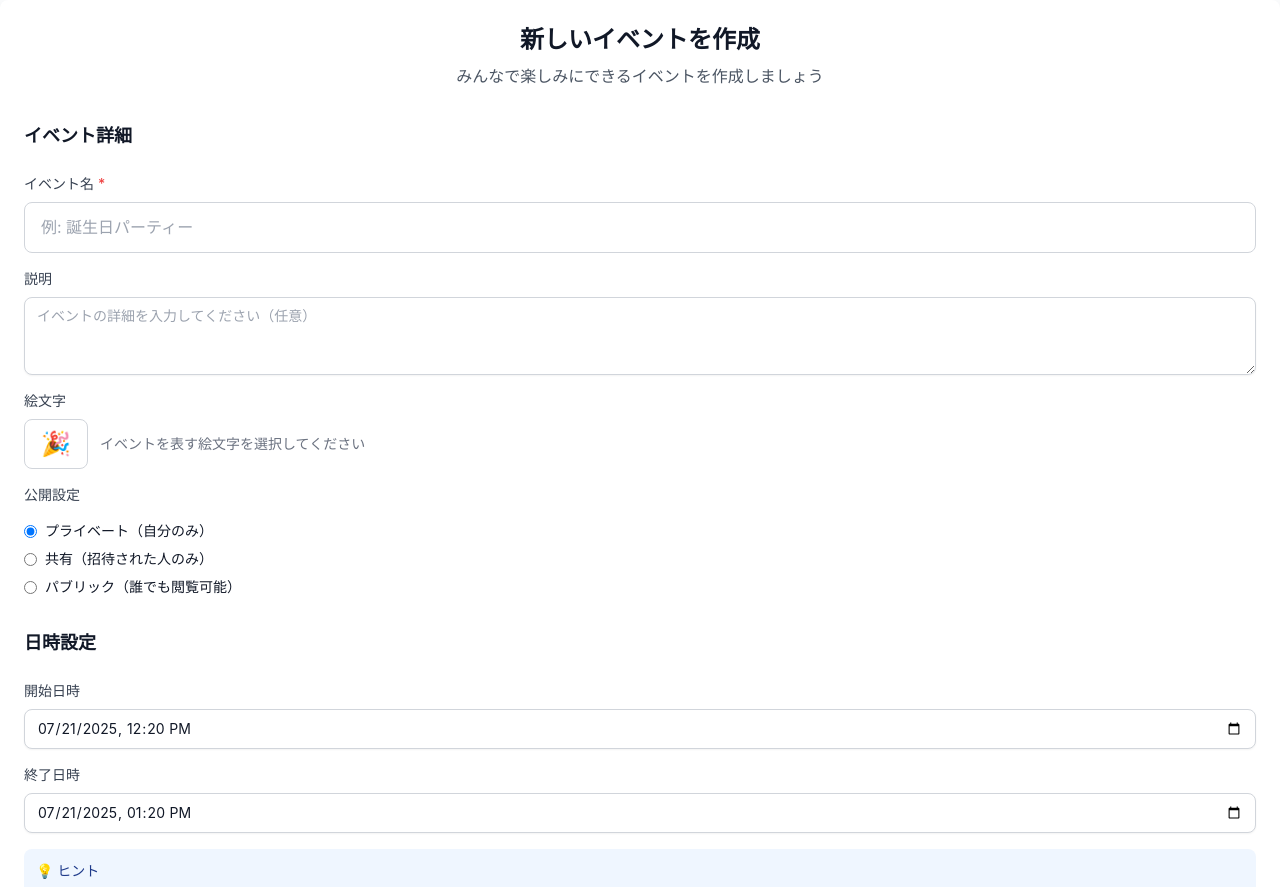
Test: EventCreationForm › shows validation errors for empty required fields
Clear the startTime and endTime fields to trigger required validation
Clear the field labelled "開始日時" at (640, 729), box [24, 709, 1256, 749]
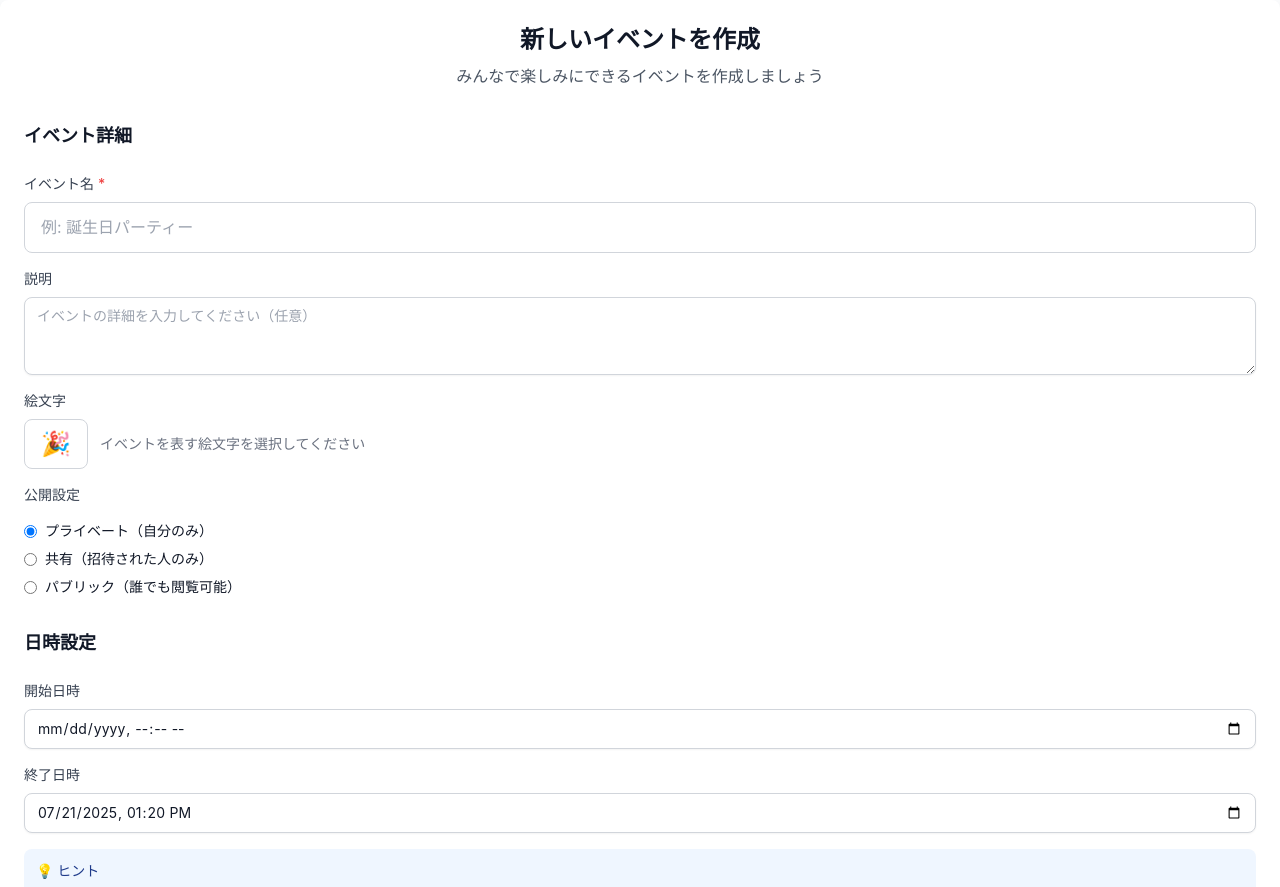
Clear the field labelled "終了日時" at (640, 813), box [24, 793, 1256, 833]
(page scrolled)
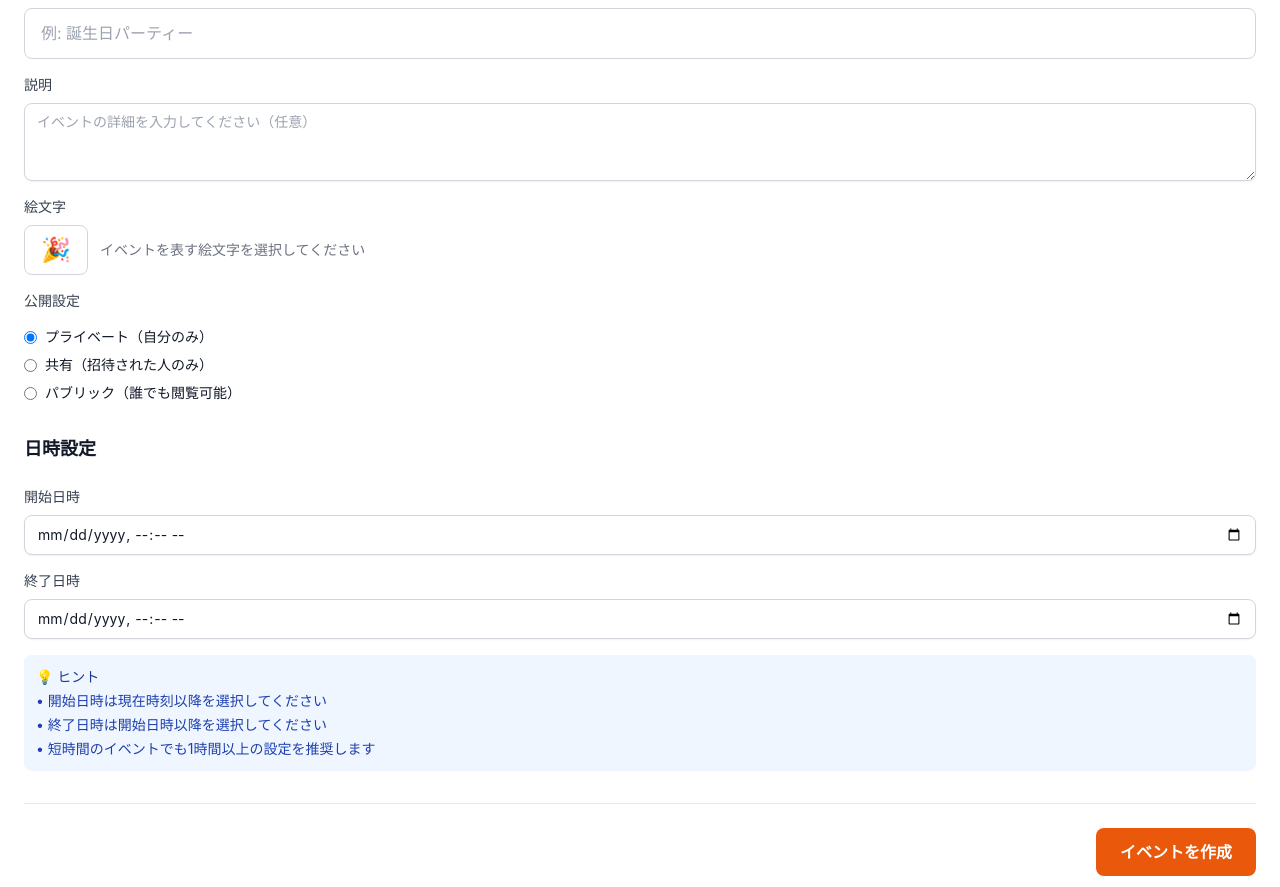
Click the button "イベントを作成" at (1176, 852), box [1096, 828, 1256, 876]
(page scrolled)
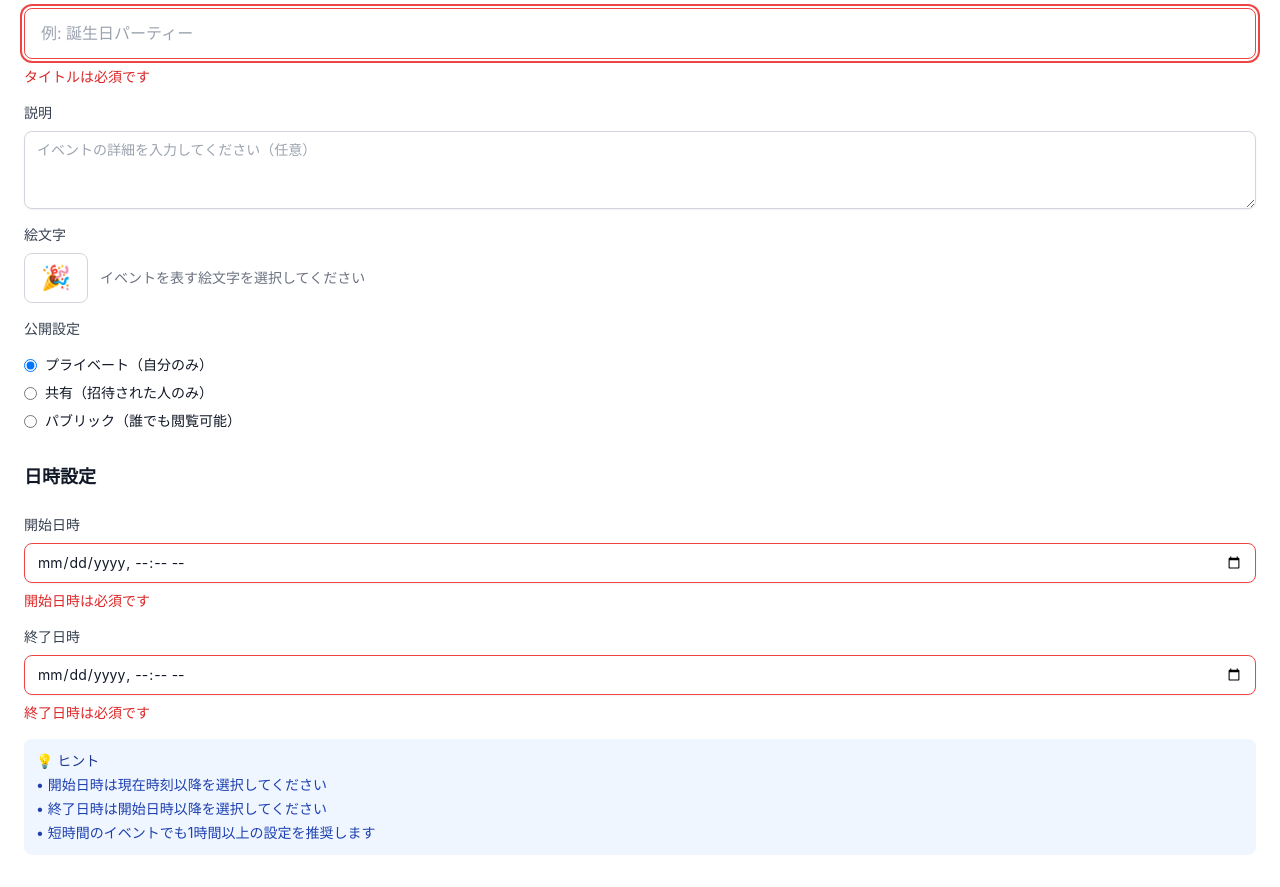
Expected: the text "タイトルは必須です" is shown 2 times
Expected: the text "開始日時は必須です" is shown 2 times
Expected: the text "終了日時は必須です" is shown 2 times
